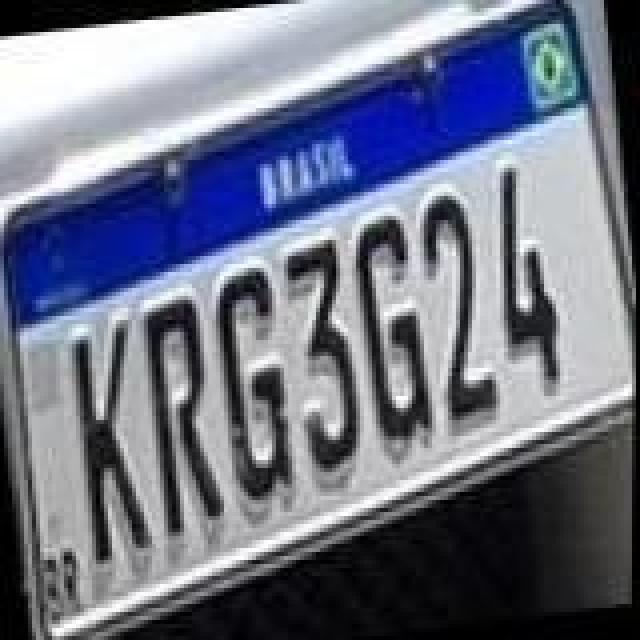2: (412, 186, 508, 422)
3: (278, 236, 370, 476)
4: (480, 160, 568, 384)
G: (208, 262, 304, 506), (348, 212, 444, 444)
K: (66, 316, 162, 564)
R: (136, 292, 232, 540)
